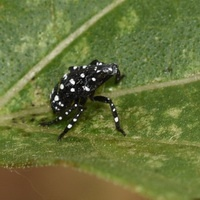insect: (40, 60, 125, 139)
